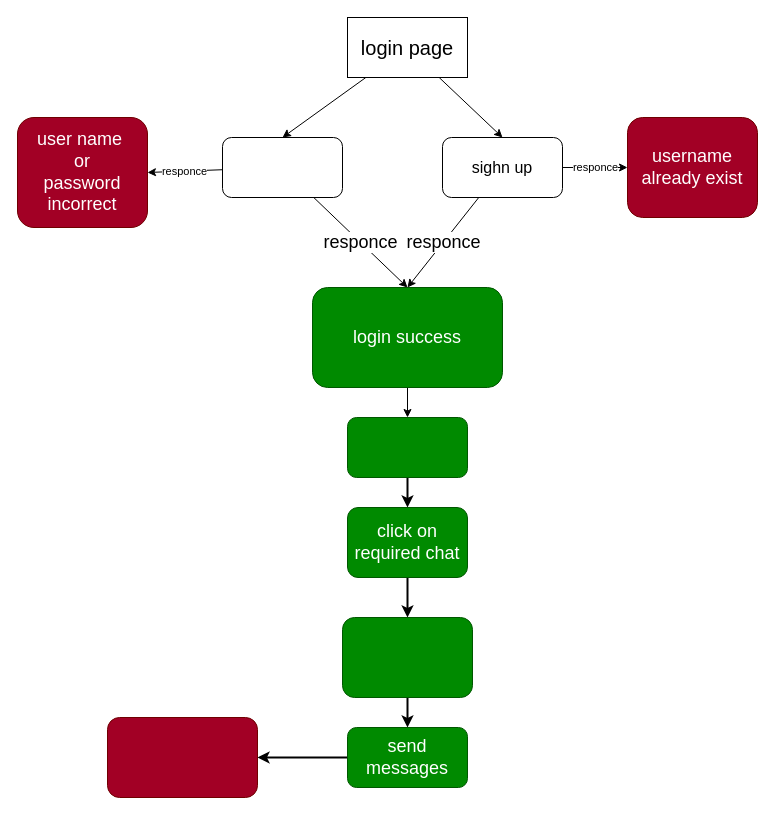
The diagram is 775 pixels wide and 815 high, and some of its shapes have lost their labels. The shapes that lost their labels are listed below. From the top down, each one's box as (x1, y1, x2, y2) in pixels, then its label:
(222, 136, 342, 198): login
(346, 416, 468, 478): friends list render
(342, 616, 472, 698): get all chats messages
(106, 716, 258, 798): send message error
